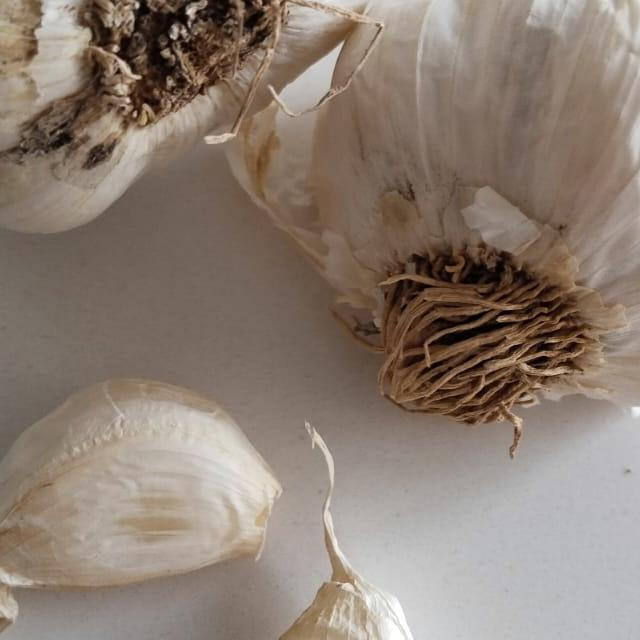garlic: (277, 0, 640, 437), (0, 0, 387, 220), (0, 327, 305, 605), (60, 507, 510, 640)
